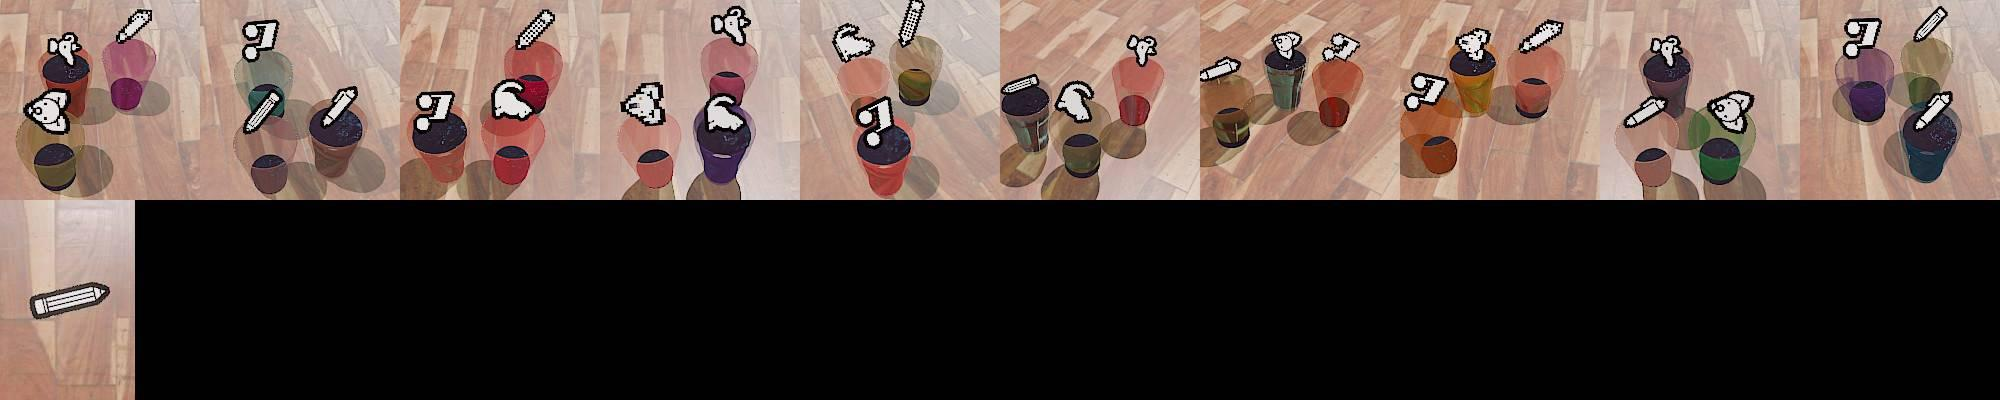icon: (28, 280, 113, 319), (22, 89, 72, 136), (855, 94, 897, 147), (1706, 89, 1755, 133), (620, 81, 667, 126), (242, 87, 286, 135), (490, 79, 536, 123), (1053, 79, 1095, 123), (831, 23, 876, 64), (703, 92, 746, 133), (516, 8, 557, 51), (711, 5, 753, 46), (241, 20, 280, 64), (415, 90, 457, 130), (1518, 19, 1566, 54), (1406, 72, 1450, 110), (1844, 18, 1883, 59), (1913, 91, 1954, 130), (322, 85, 358, 127), (1624, 95, 1667, 129), (1912, 5, 1950, 43), (115, 7, 153, 44), (897, 0, 926, 48), (1453, 28, 1492, 63), (1649, 35, 1685, 70), (1321, 32, 1360, 63), (46, 32, 81, 65), (1126, 33, 1157, 68), (1270, 31, 1304, 62), (1200, 56, 1240, 82), (1000, 75, 1039, 97)
